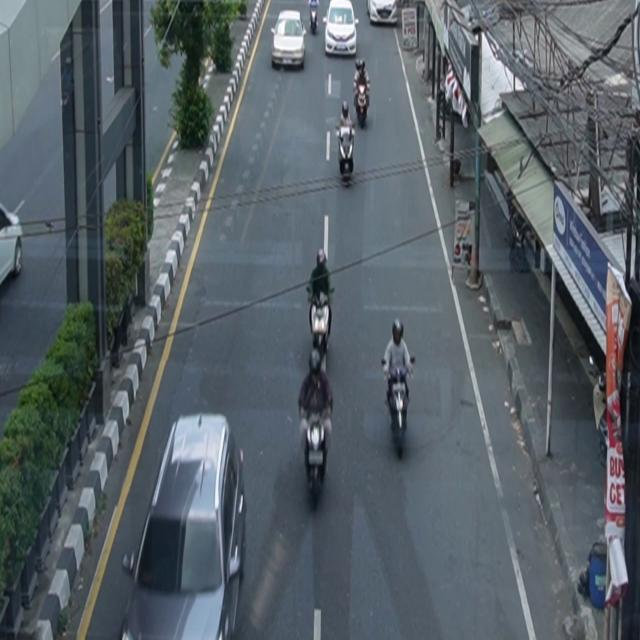bus: (121, 412, 247, 640)
car: (271, 10, 307, 70), (1, 201, 25, 290), (323, 1, 360, 58), (367, 1, 399, 27)
